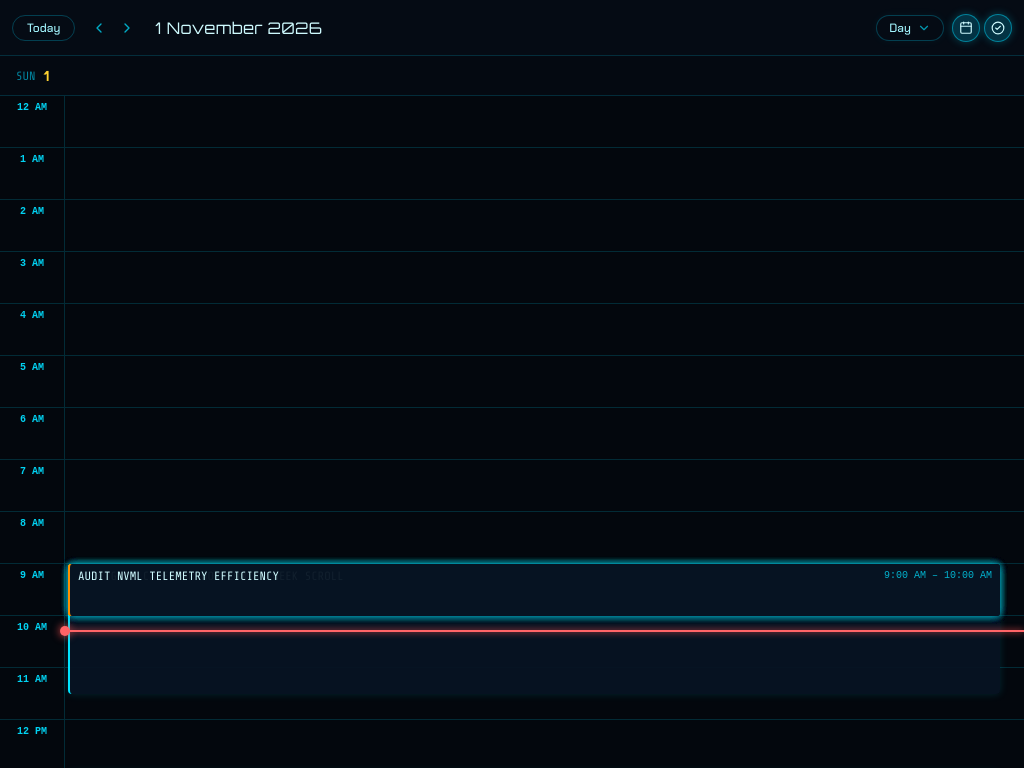
CalendarView Component › opens edit modal when clicking an existing event, allows editing and deleting
Click the element with test id "event-item-e1".
click(534, 629)  # box [68,564,1000,694]
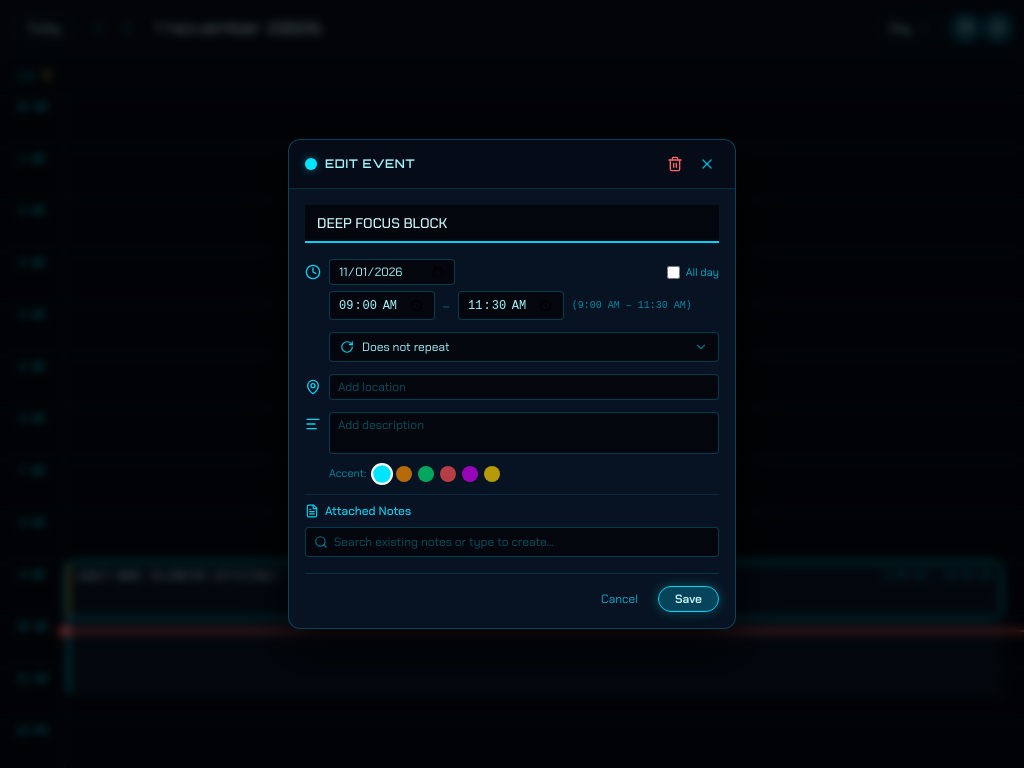
Expected: the text "EDIT EVENT" is shown, [325,156,415,172]
Expected: the button with test id "event-delete-btn" is shown
Note: Click delete
Click the button with test id "event-delete-btn".
click(675, 164)  # box [663,152,687,176]
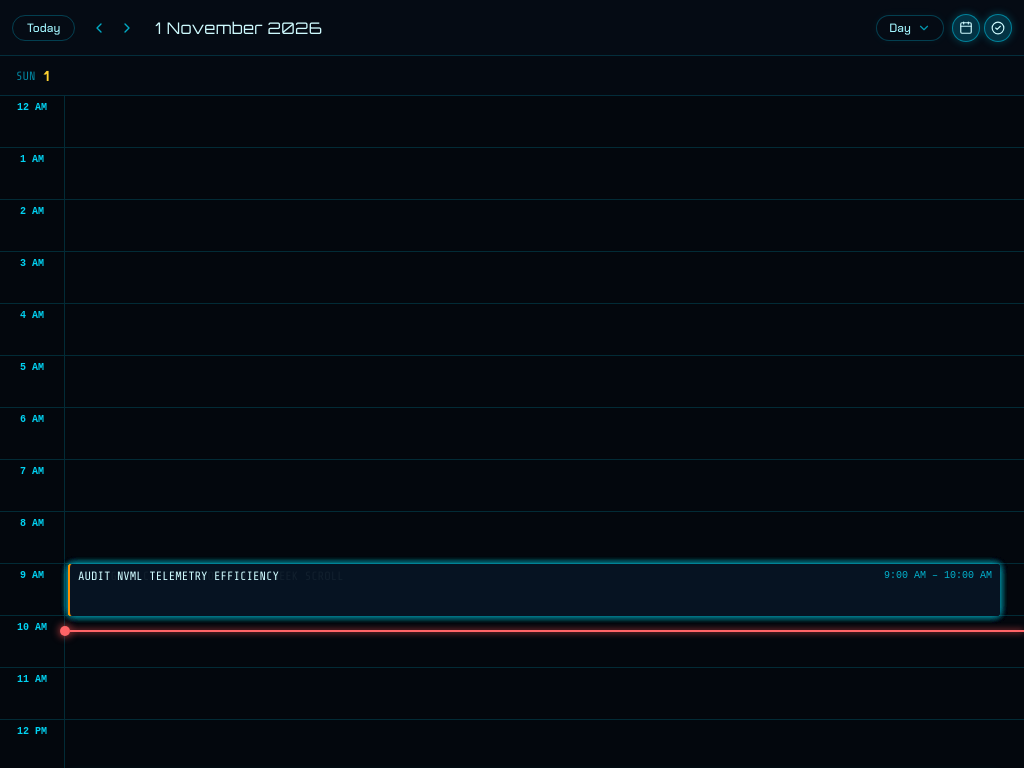
Expected: the element with test id "event-modal-content" is gone
Expected: the element with test id "event-item-e1" is gone
